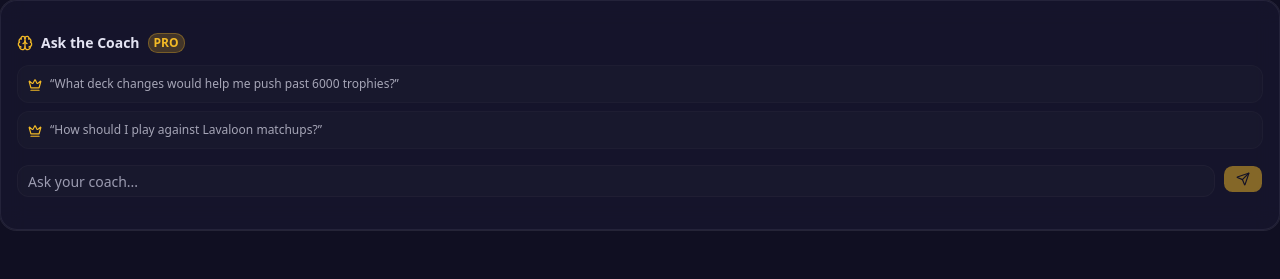
Test: CoachChat › legacy (non-agent) path › announces typing status and includes a visually hidden user label
The image size is (1280, 279).
Type "How do I counter Lavaloon?" into the field with placeholder "Ask your coach...".
click(616, 181); type("How do I counter Lavaloon?")  # box [17,165,1215,197]
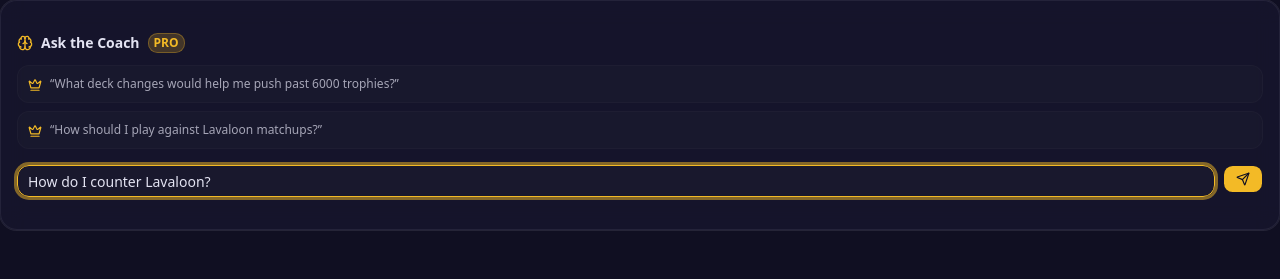
Click the button named "send coach question".
click(1243, 179)  # box [1223,165,1263,193]
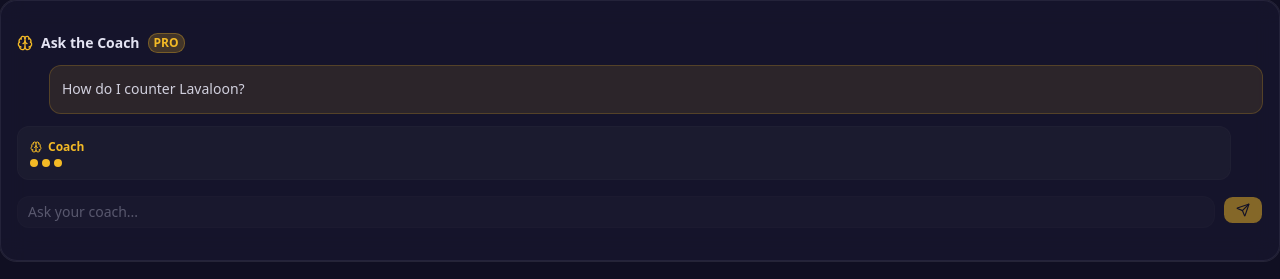
Result: the message named "coach is typing" is shown at [30,159,62,167]
